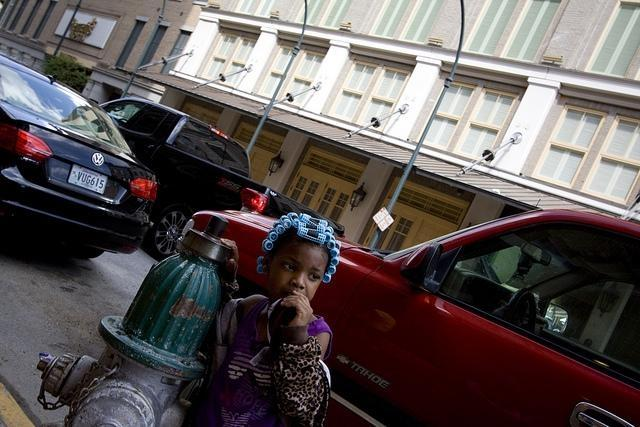car: (182, 209, 640, 426), (0, 52, 153, 261)
truck: (98, 96, 348, 257)
